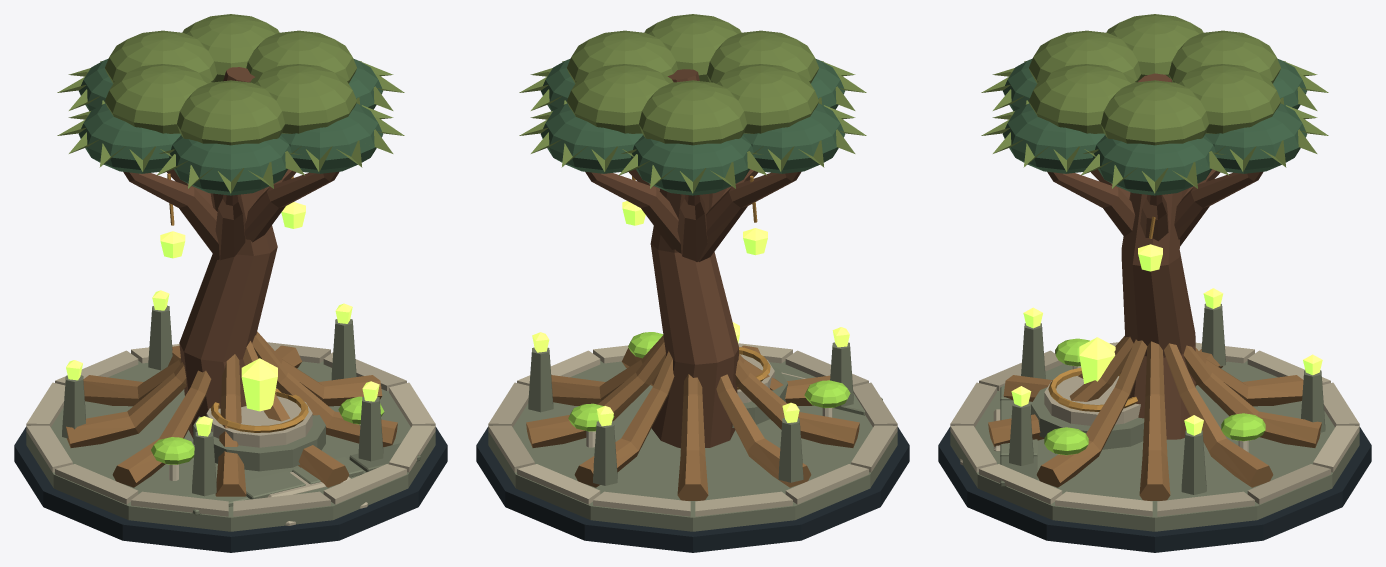
Rendered from nature__bosque__L15.glb.
The picture shows the model from 3 angles, left to right: view 1: azimuth 30°, elevation 25°; view 2: azimuth 150°, elevation 25°; view 3: azimuth 270°, elevation 25°; orthographic projection.
Parts seen in each view (by area): view 1: structure, weapon; view 2: structure; view 3: structure, weapon.
Boxes of the visible parts, x1,y1,x2,y2 form: structure: [14, 14, 447, 552]; weapon: [241, 358, 277, 411]; structure: [476, 14, 909, 552]; structure: [938, 14, 1371, 552]; weapon: [1079, 337, 1115, 383].
Size of the model in its own units: 0.8624 by 0.8892 by 0.8624.
